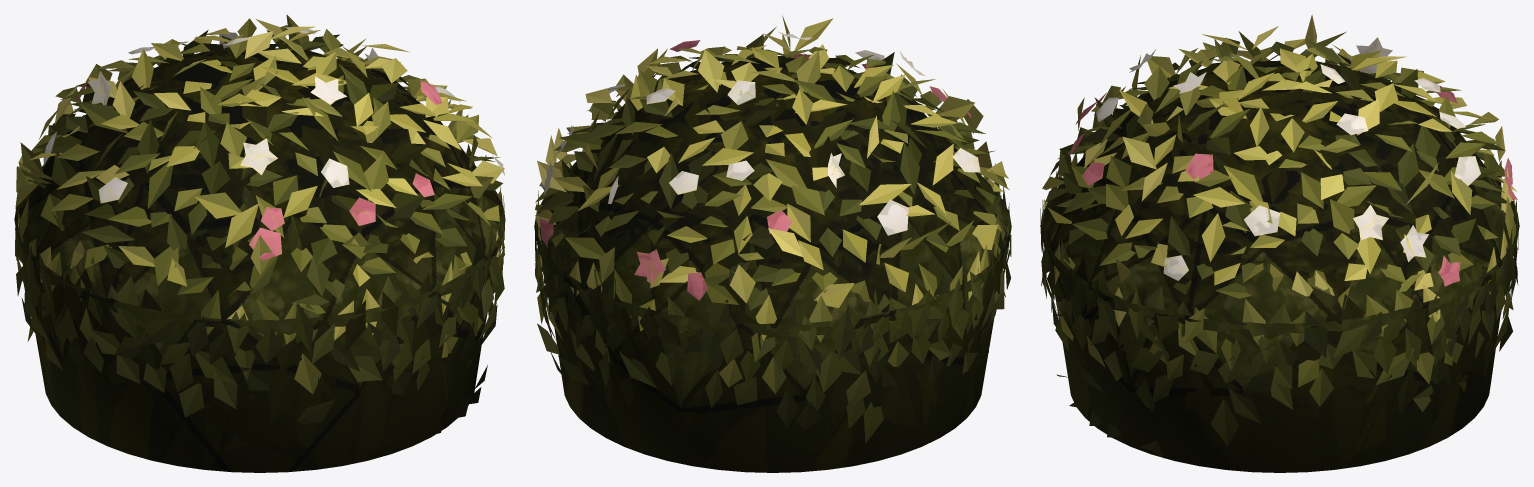
Rendered from shrub_round.glb.
The picture shows the model from 3 angles, left to right: view 1: azimuth 30°, elevation 25°; view 2: azimuth 150°, elevation 25°; view 3: azimuth 270°, elevation 25°; orthographic projection. The views are drawn at different scales.
Parts seen in each view (by area): view 1: body; view 2: body; view 3: body.
Boxes of the visible parts, x1,y1,x2,y2 form: body: (14, 14, 505, 472); body: (534, 15, 1011, 472); body: (1040, 14, 1519, 472).
Bounding box in the file's own units: 1.1 × 0.8264 × 1.1.
Materials: 1 (1 with a texture image).
